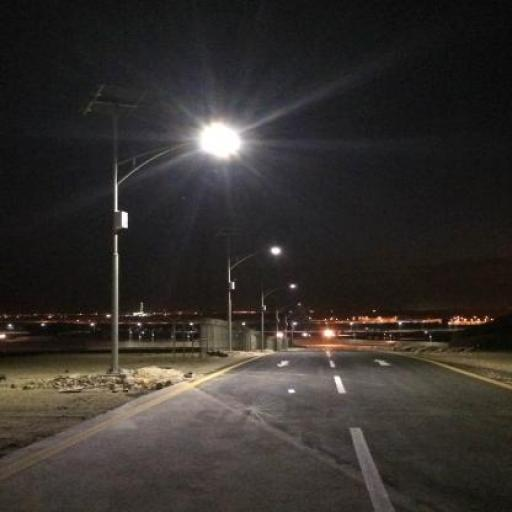street light: (112, 128, 241, 375), (226, 245, 282, 354), (258, 283, 296, 348), (276, 303, 302, 351)
